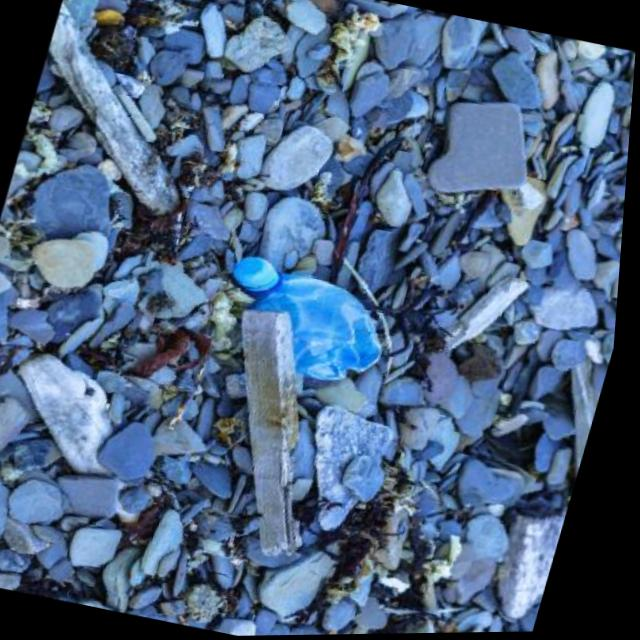plastic: (203, 251, 401, 394)
